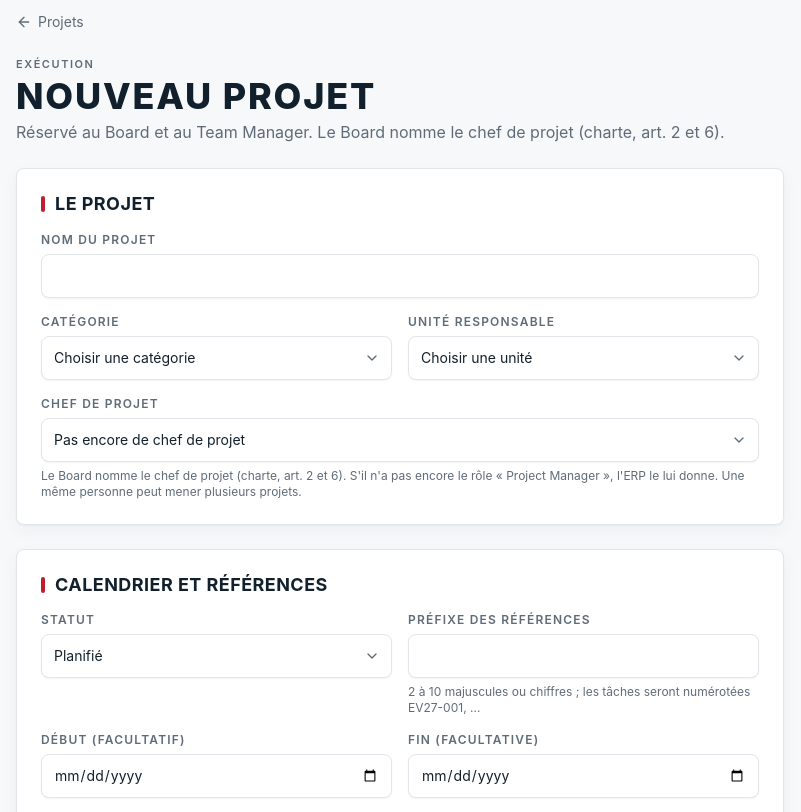
Test: NewProject › puts the cars' projects in the Formula Student team
The image size is (801, 812).
Select "Électrique (EV)" in the dropdown labelled "Catégorie" at (216, 358), box 41,336 -> 392,380
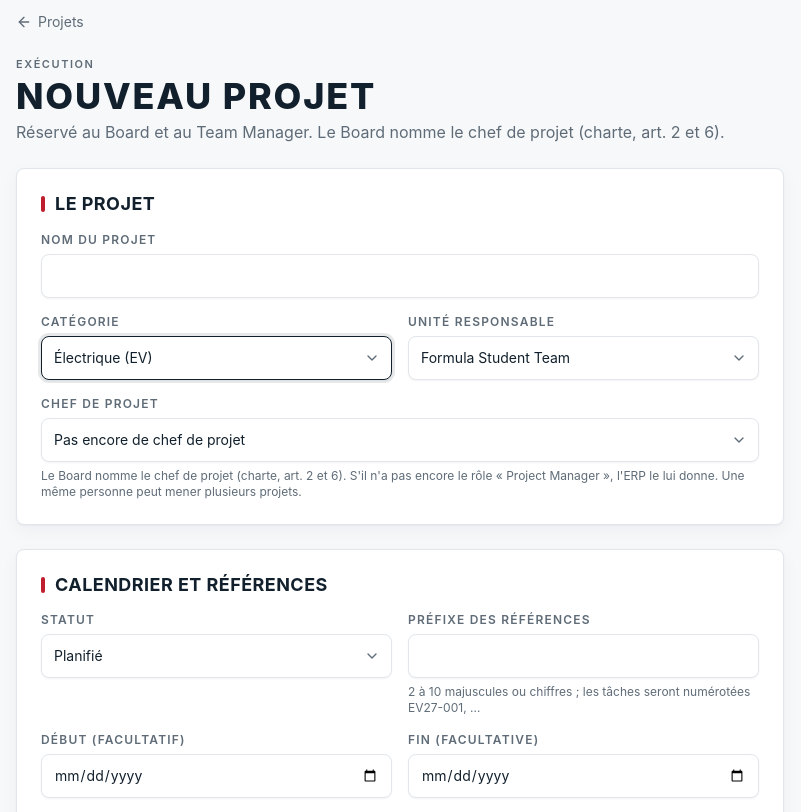
Now the dropdown labelled "Unité responsable" shows "Formula Student Team", box 408,336 -> 759,380
